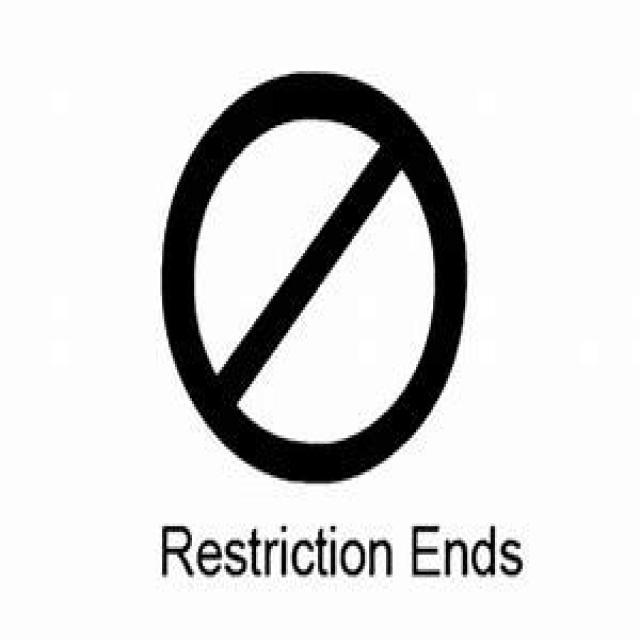restriction ends: (161, 68, 471, 482)
